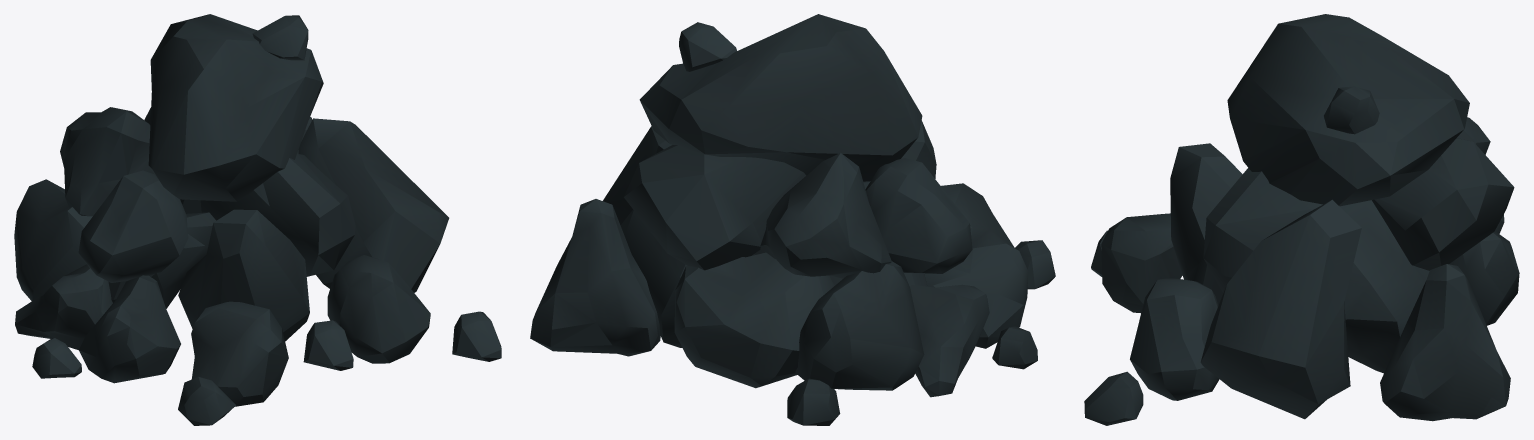
Rendered from pile_coal.glb.
3 renders of one model, left to right at view 1: azimuth 30°, elevation 25°; view 2: azimuth 150°, elevation 25°; view 3: azimuth 270°, elevation 25°, orthographic. The views are drawn at different scales.
Parts seen in each view (by area): view 1: Stone_Chunks_Large; view 2: Stone_Chunks_Large; view 3: Stone_Chunks_Large.
Boxes of the visible parts, <box> form: Stone_Chunks_Large: <box>14,14,501,425</box>; Stone_Chunks_Large: <box>530,14,1055,425</box>; Stone_Chunks_Large: <box>1084,14,1519,425</box>.
Bounding box in the file's own units: 1.5 × 1.08 × 1.35.
1 material, 1 textured.
